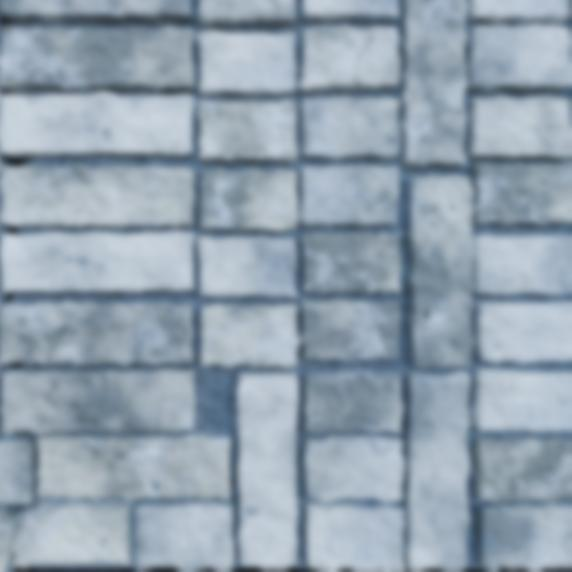brick: (408, 163, 571, 367), (0, 435, 229, 502), (405, 370, 469, 568), (1, 369, 194, 433), (0, 27, 195, 90), (0, 92, 194, 155), (0, 302, 193, 364), (0, 165, 196, 226), (237, 373, 297, 567), (0, 231, 194, 291), (401, 0, 466, 167), (467, 25, 571, 91), (304, 435, 403, 501), (299, 26, 399, 91), (136, 502, 233, 569), (469, 96, 571, 158), (474, 436, 571, 501), (307, 504, 403, 569), (198, 31, 295, 95), (201, 304, 298, 367), (477, 503, 571, 568), (473, 369, 571, 431), (304, 371, 402, 433), (198, 99, 297, 160), (300, 98, 399, 159), (200, 168, 296, 230), (302, 232, 401, 292), (301, 300, 399, 360), (198, 237, 296, 297), (300, 165, 397, 225), (476, 302, 571, 362), (0, 0, 190, 21), (198, 0, 295, 25), (468, 0, 571, 23), (303, 0, 398, 20), (0, 69, 6, 86)
broken_brick: (12, 502, 131, 566), (0, 508, 9, 571)
crack: (2, 492, 571, 571), (412, 92, 466, 129), (33, 311, 69, 365), (0, 429, 39, 467), (367, 114, 401, 146), (372, 173, 396, 207), (0, 152, 38, 168), (463, 287, 474, 333), (0, 65, 14, 95), (0, 281, 13, 305), (3, 361, 25, 373), (2, 223, 18, 235), (0, 15, 12, 28), (399, 510, 405, 522), (3, 196, 10, 200)
